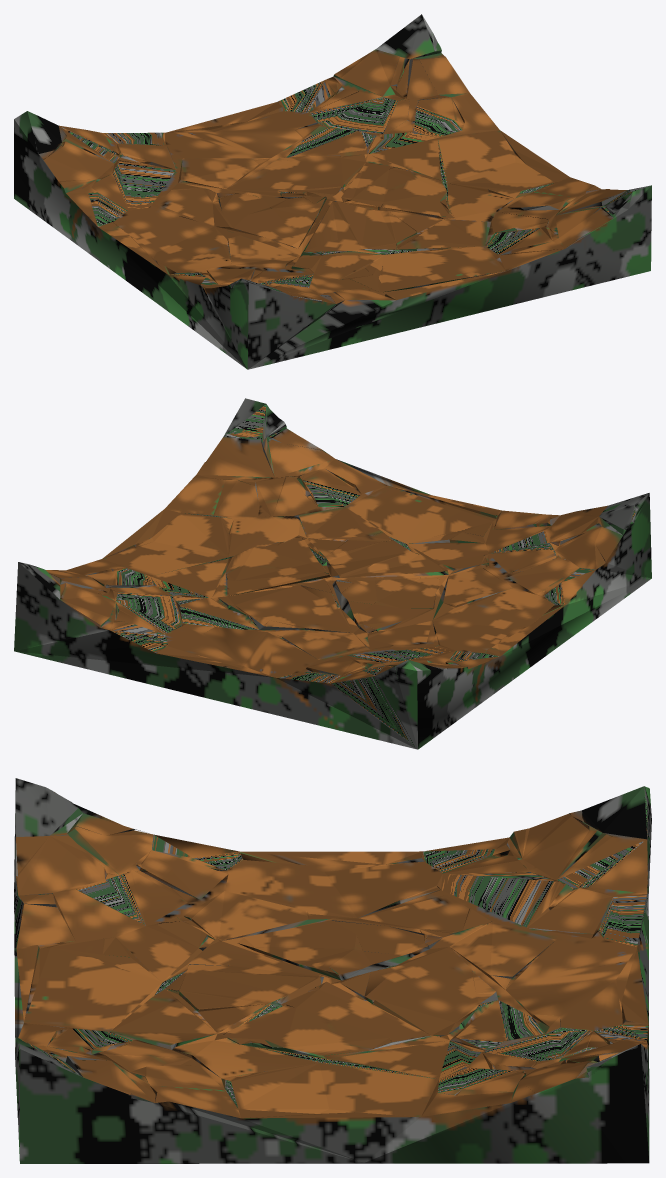
Rendered from sluice_cross.fbx.
The picture shows the model from 3 angles, top to bottom: view 1: azimuth 30°, elevation 25°; view 2: azimuth 150°, elevation 25°; view 3: azimuth 270°, elevation 25°; orthographic projection. The views are drawn at different scales.
Visible parts, largest first — view 1: Sewer Sluice Cross; view 2: Sewer Sluice Cross; view 3: Sewer Sluice Cross.
Boxes of the visible parts, box(x1,y1,x2,y2) form: Sewer Sluice Cross: box(14, 14, 651, 369); Sewer Sluice Cross: box(14, 398, 651, 749); Sewer Sluice Cross: box(14, 778, 651, 1163).
Bounding box in the file's own units: 5008 × 1045 × 5018.
Materials: 1 (1 with a texture image).
